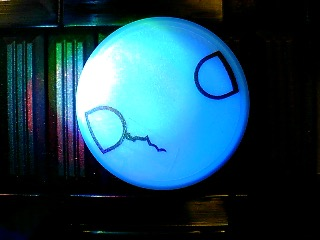CRACK: (75, 16, 249, 189)
